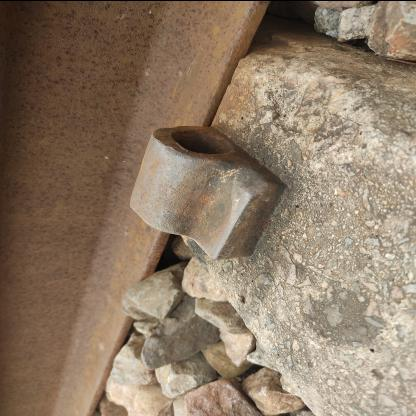Defective: (68, 80, 312, 282)
